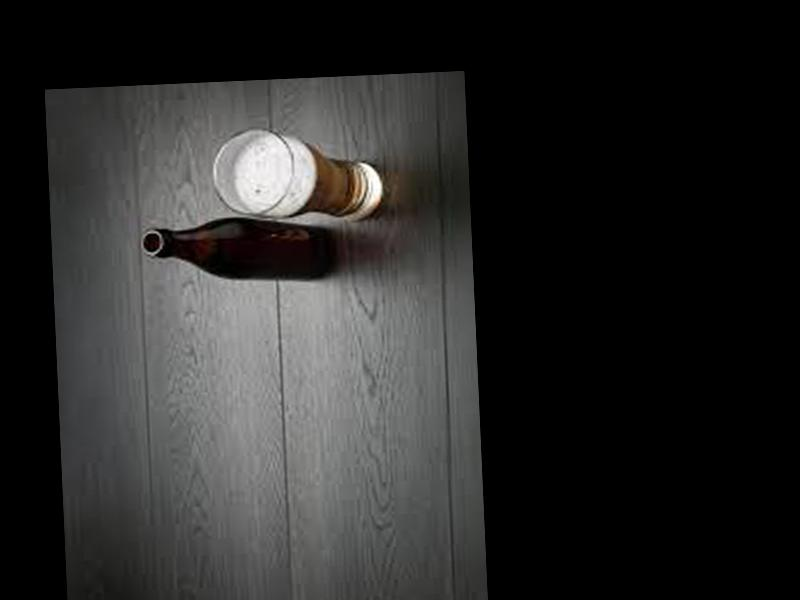Beer: (138, 211, 343, 289)
